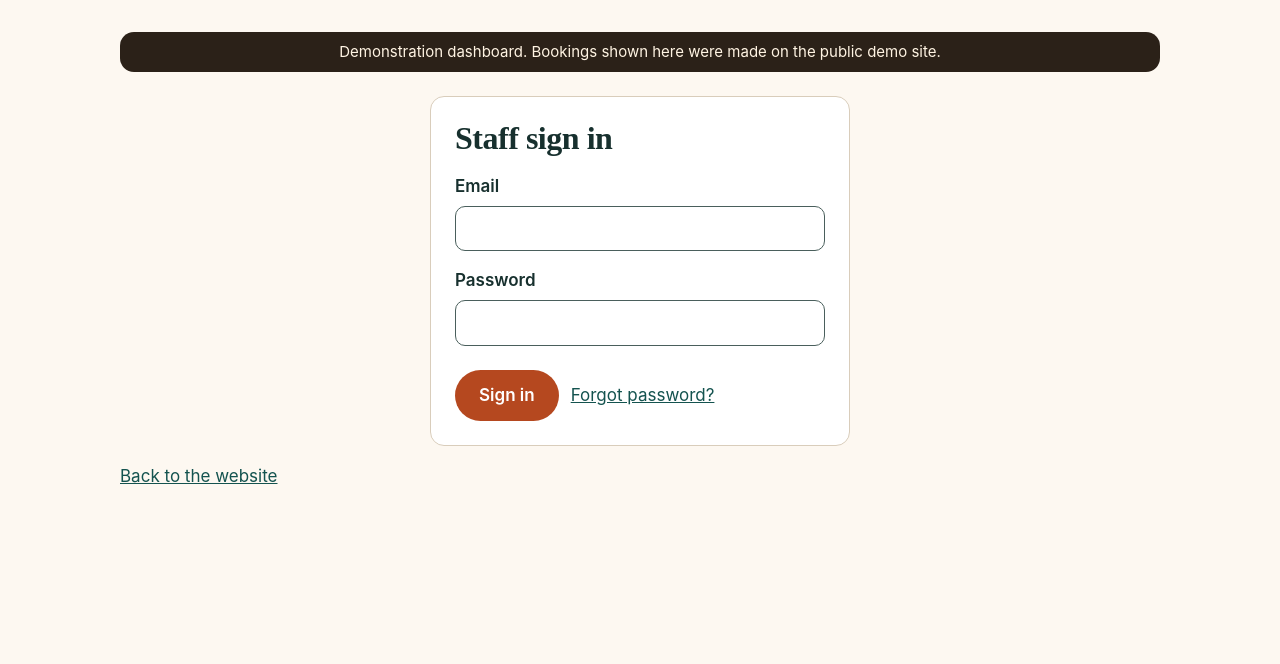
Scenario: StaffApp › warns when a new block overlaps existing bookings
Type "maya@pawcare.example" into the field labelled "Email" at (640, 229), box [455,206,825,251]
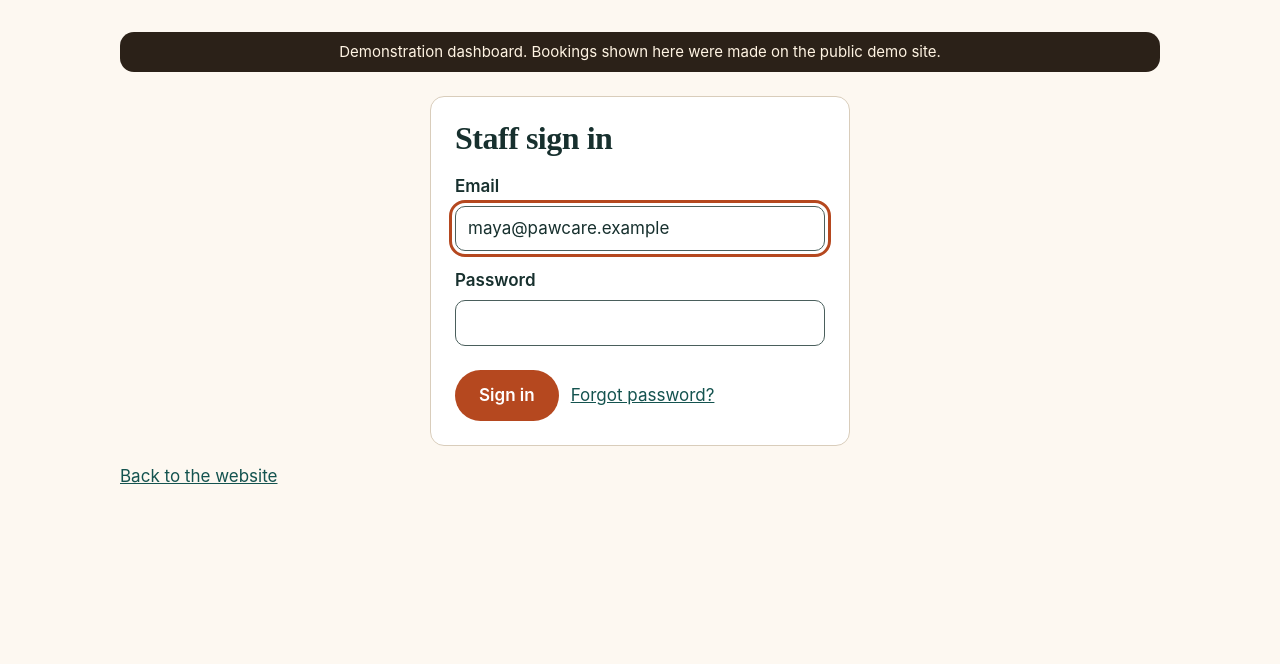
Type "correct-horse-battery" into the password field labelled "Password" at (640, 323), box [455,300,825,346]
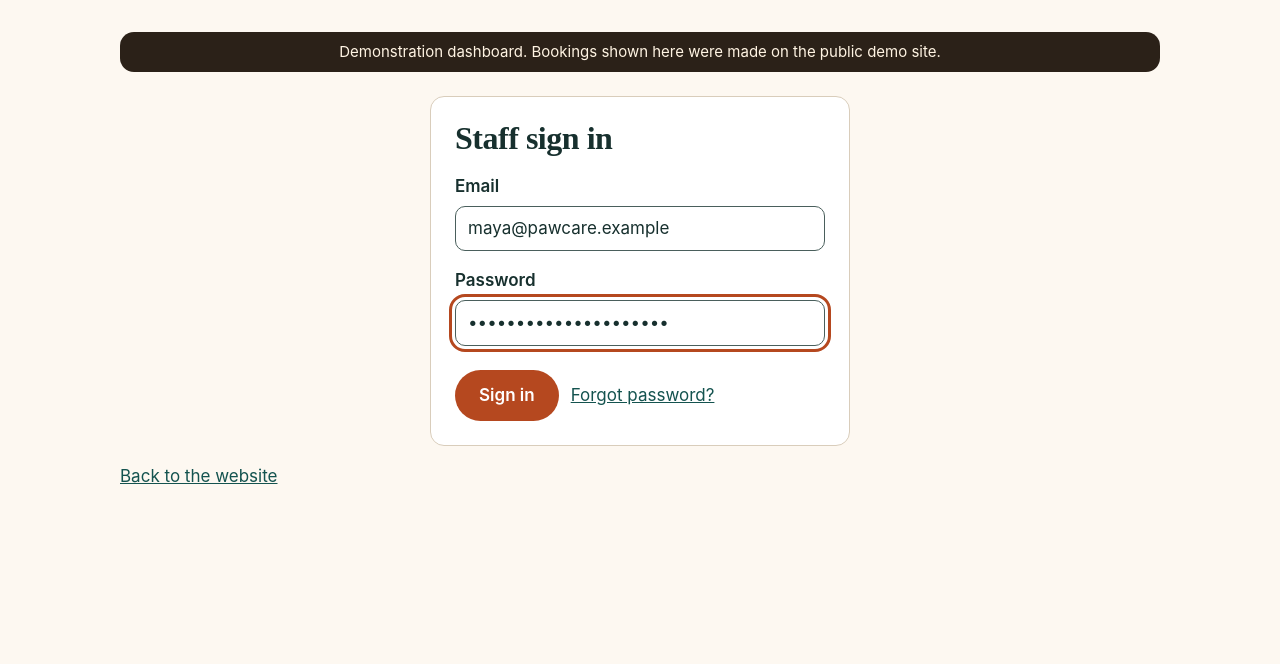
Click the button "Sign in" at (507, 395), box [455,370,559,421]
(page scrolled)
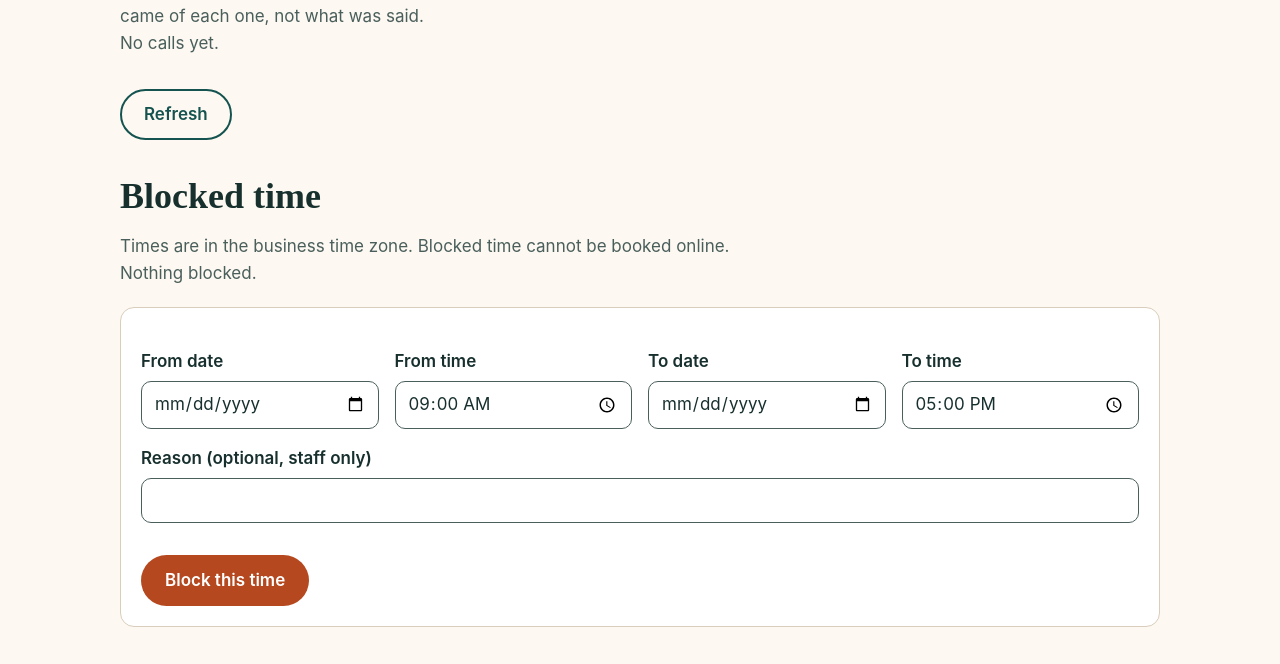
Type "2027-01-05" into the date field labelled "From date" at (260, 405), box [141,381,378,429]
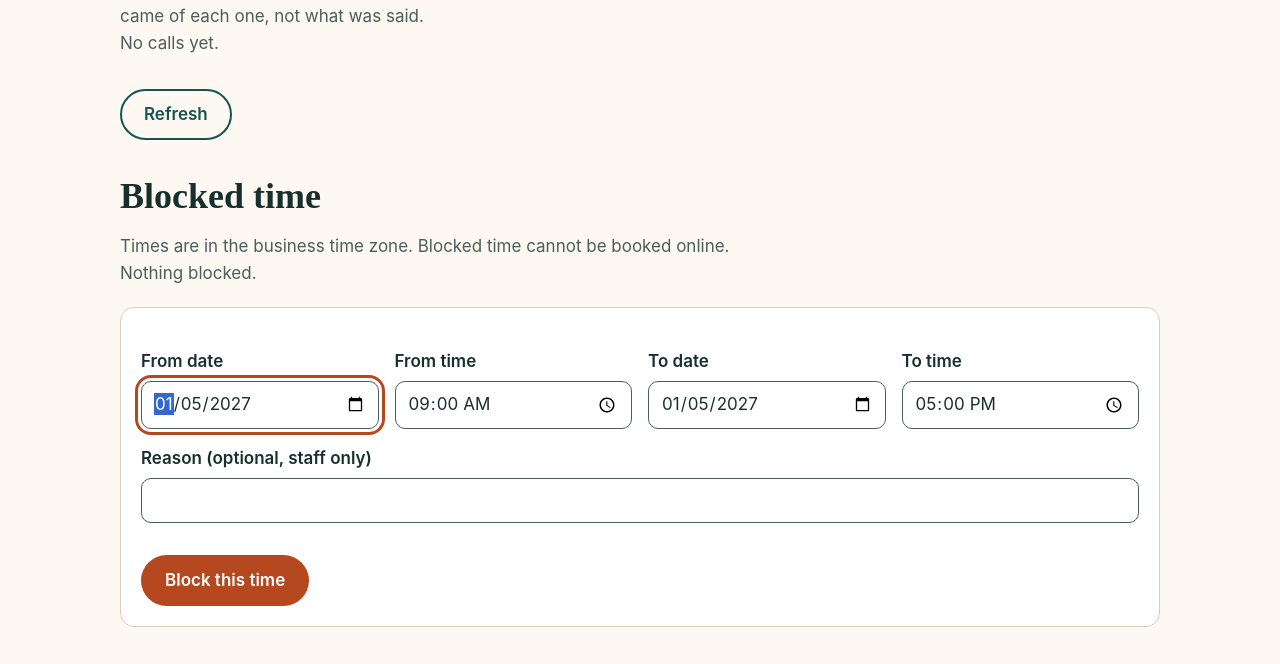
Click the button "Block this time" at (225, 580), box [141,555,309,606]
(page scrolled)
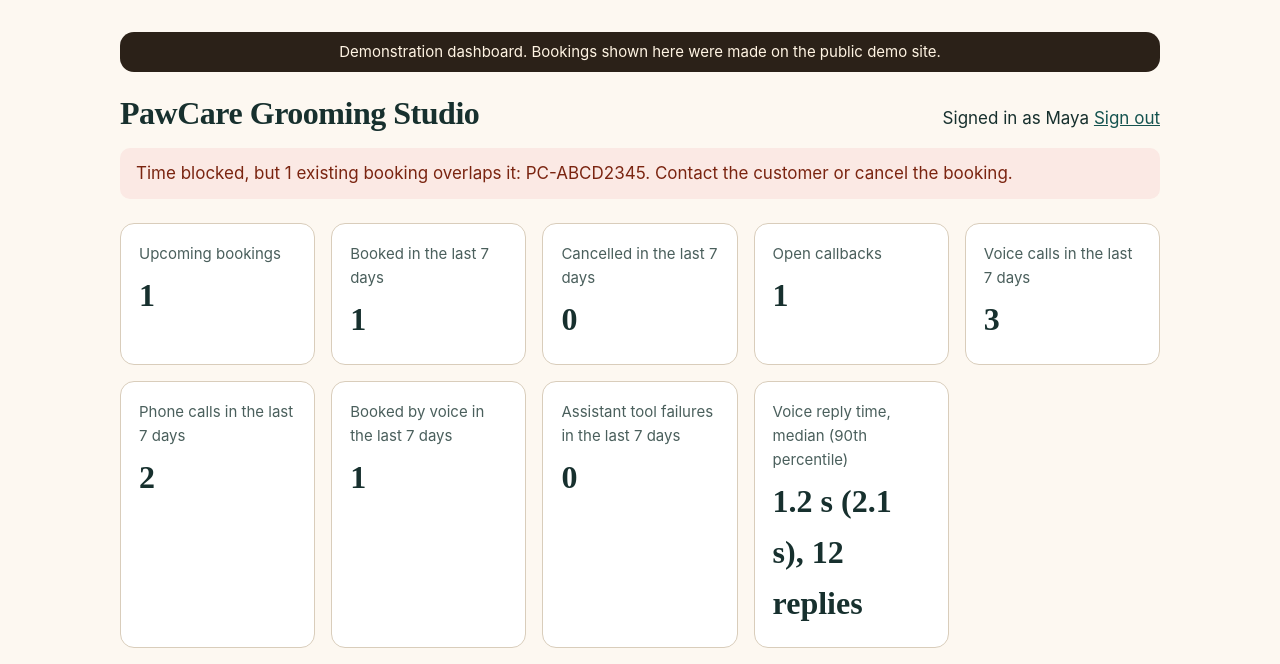
Expected: the message shows "1 existing booking overlaps it: PC-ABCD2345", [136,163,1013,183]
